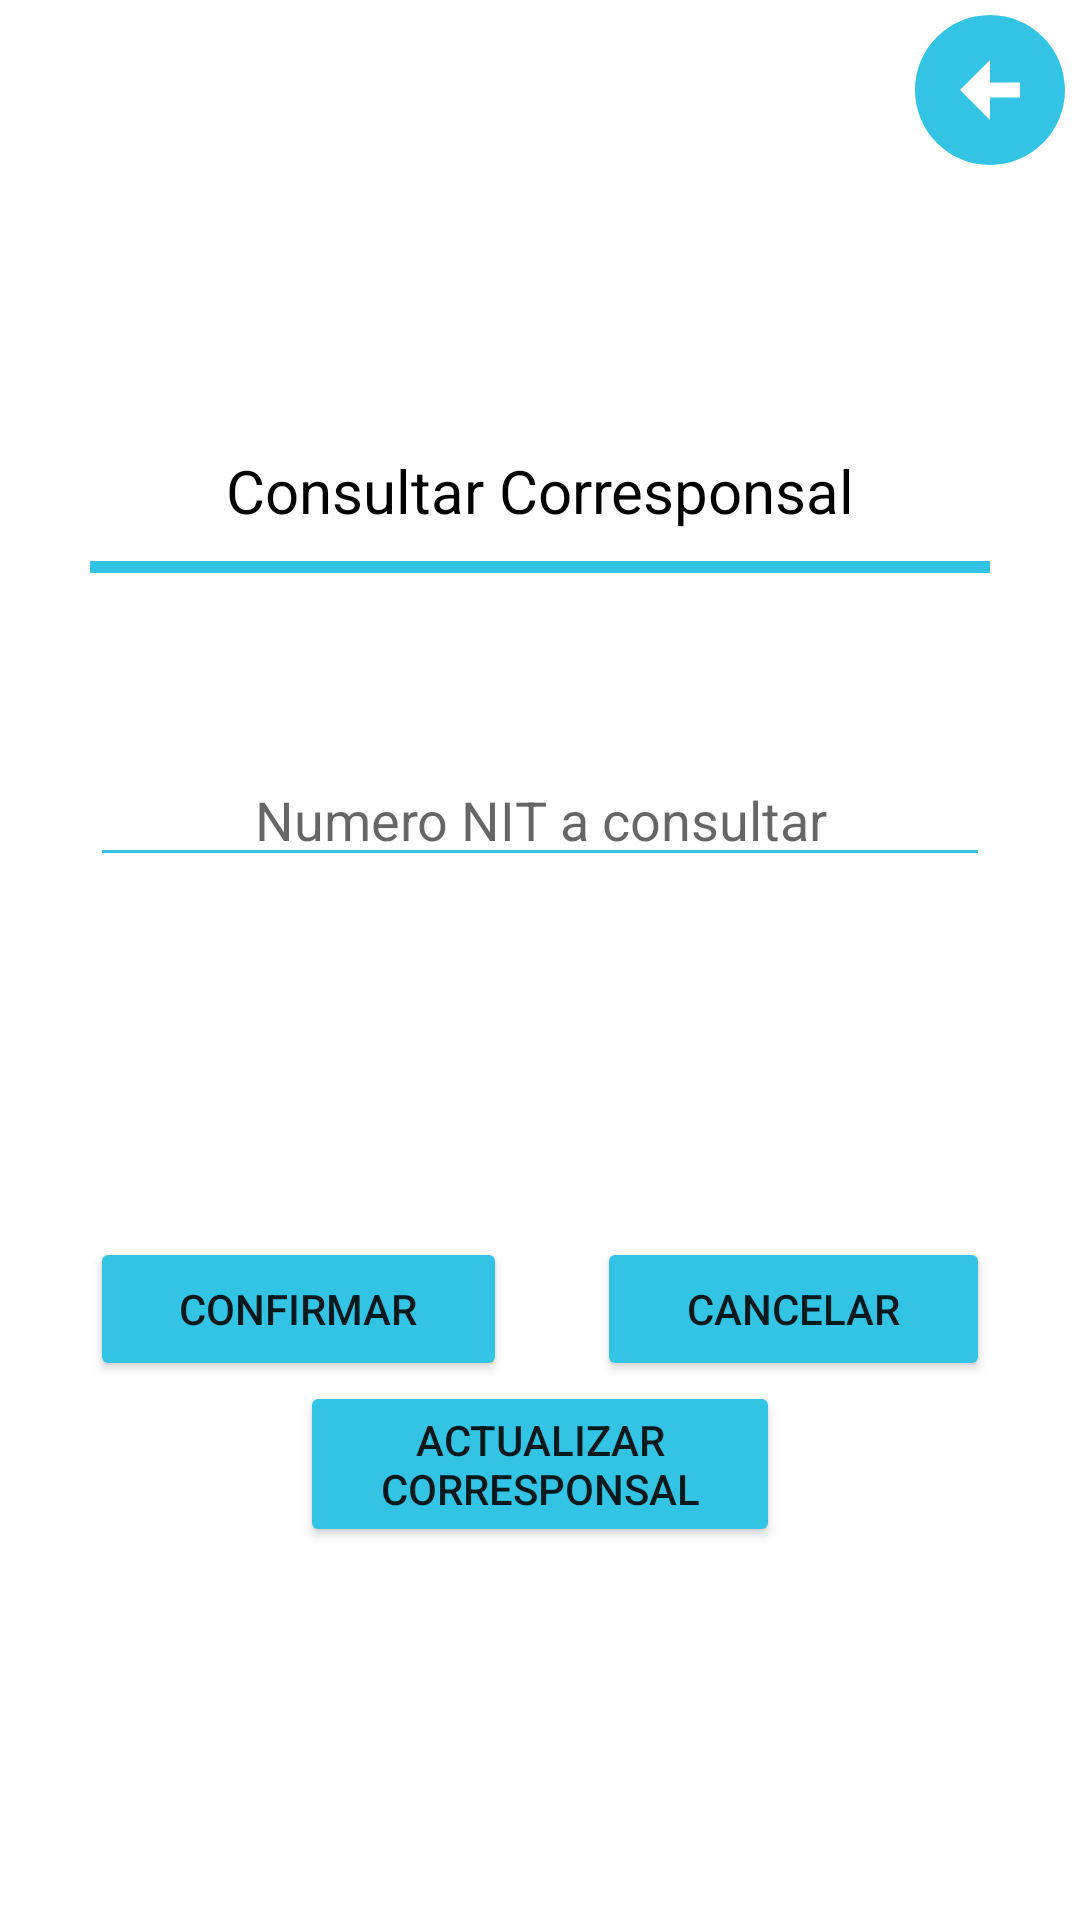

Where icons sit on this 1080x1920 app screen, as (x1, y1, x2, y2):
arrow circle left: (915, 15, 1065, 165)
